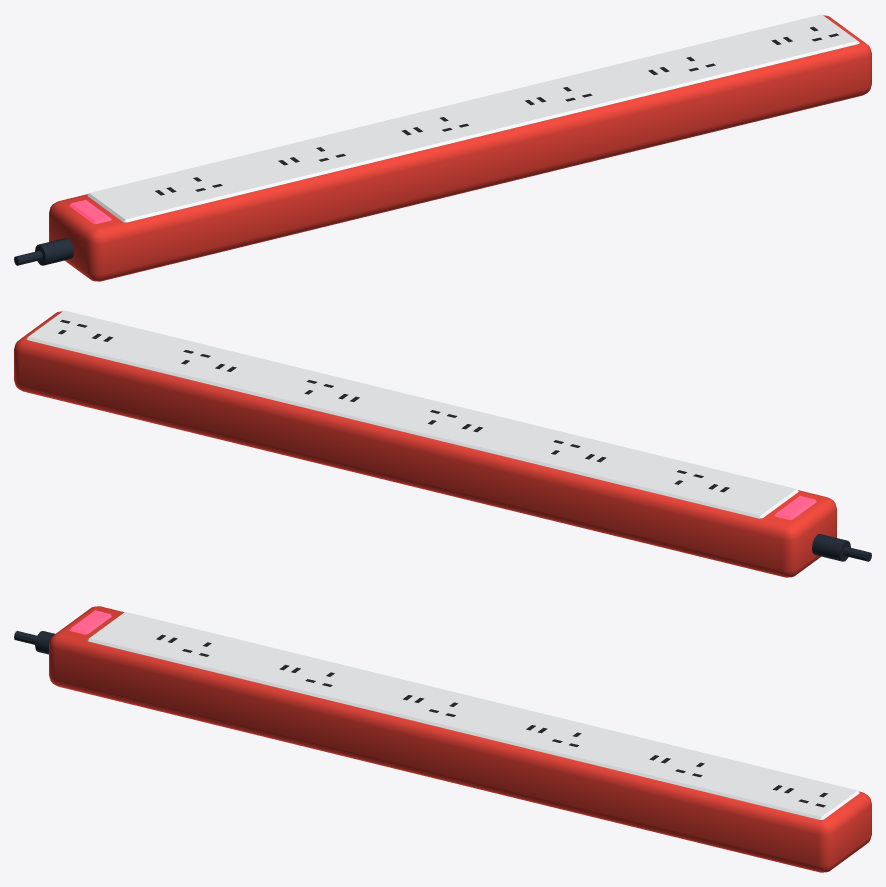
The model's file is power-strip.glb.
3 views of the same model, one above another, from view 1: azimuth 30°, elevation 25°; view 2: azimuth 150°, elevation 25°; view 3: azimuth 330°, elevation 25° (orthographic).
Visible parts, largest first — view 1: power-strip; view 2: power-strip; view 3: power-strip.
Part boxes in pixels (x1,y1,x2,y2): power-strip: (14,14,871,281); power-strip: (14,310,871,577); power-strip: (14,606,871,872).
Size of the model in its own units: 0.8 by 0.05 by 0.08.
